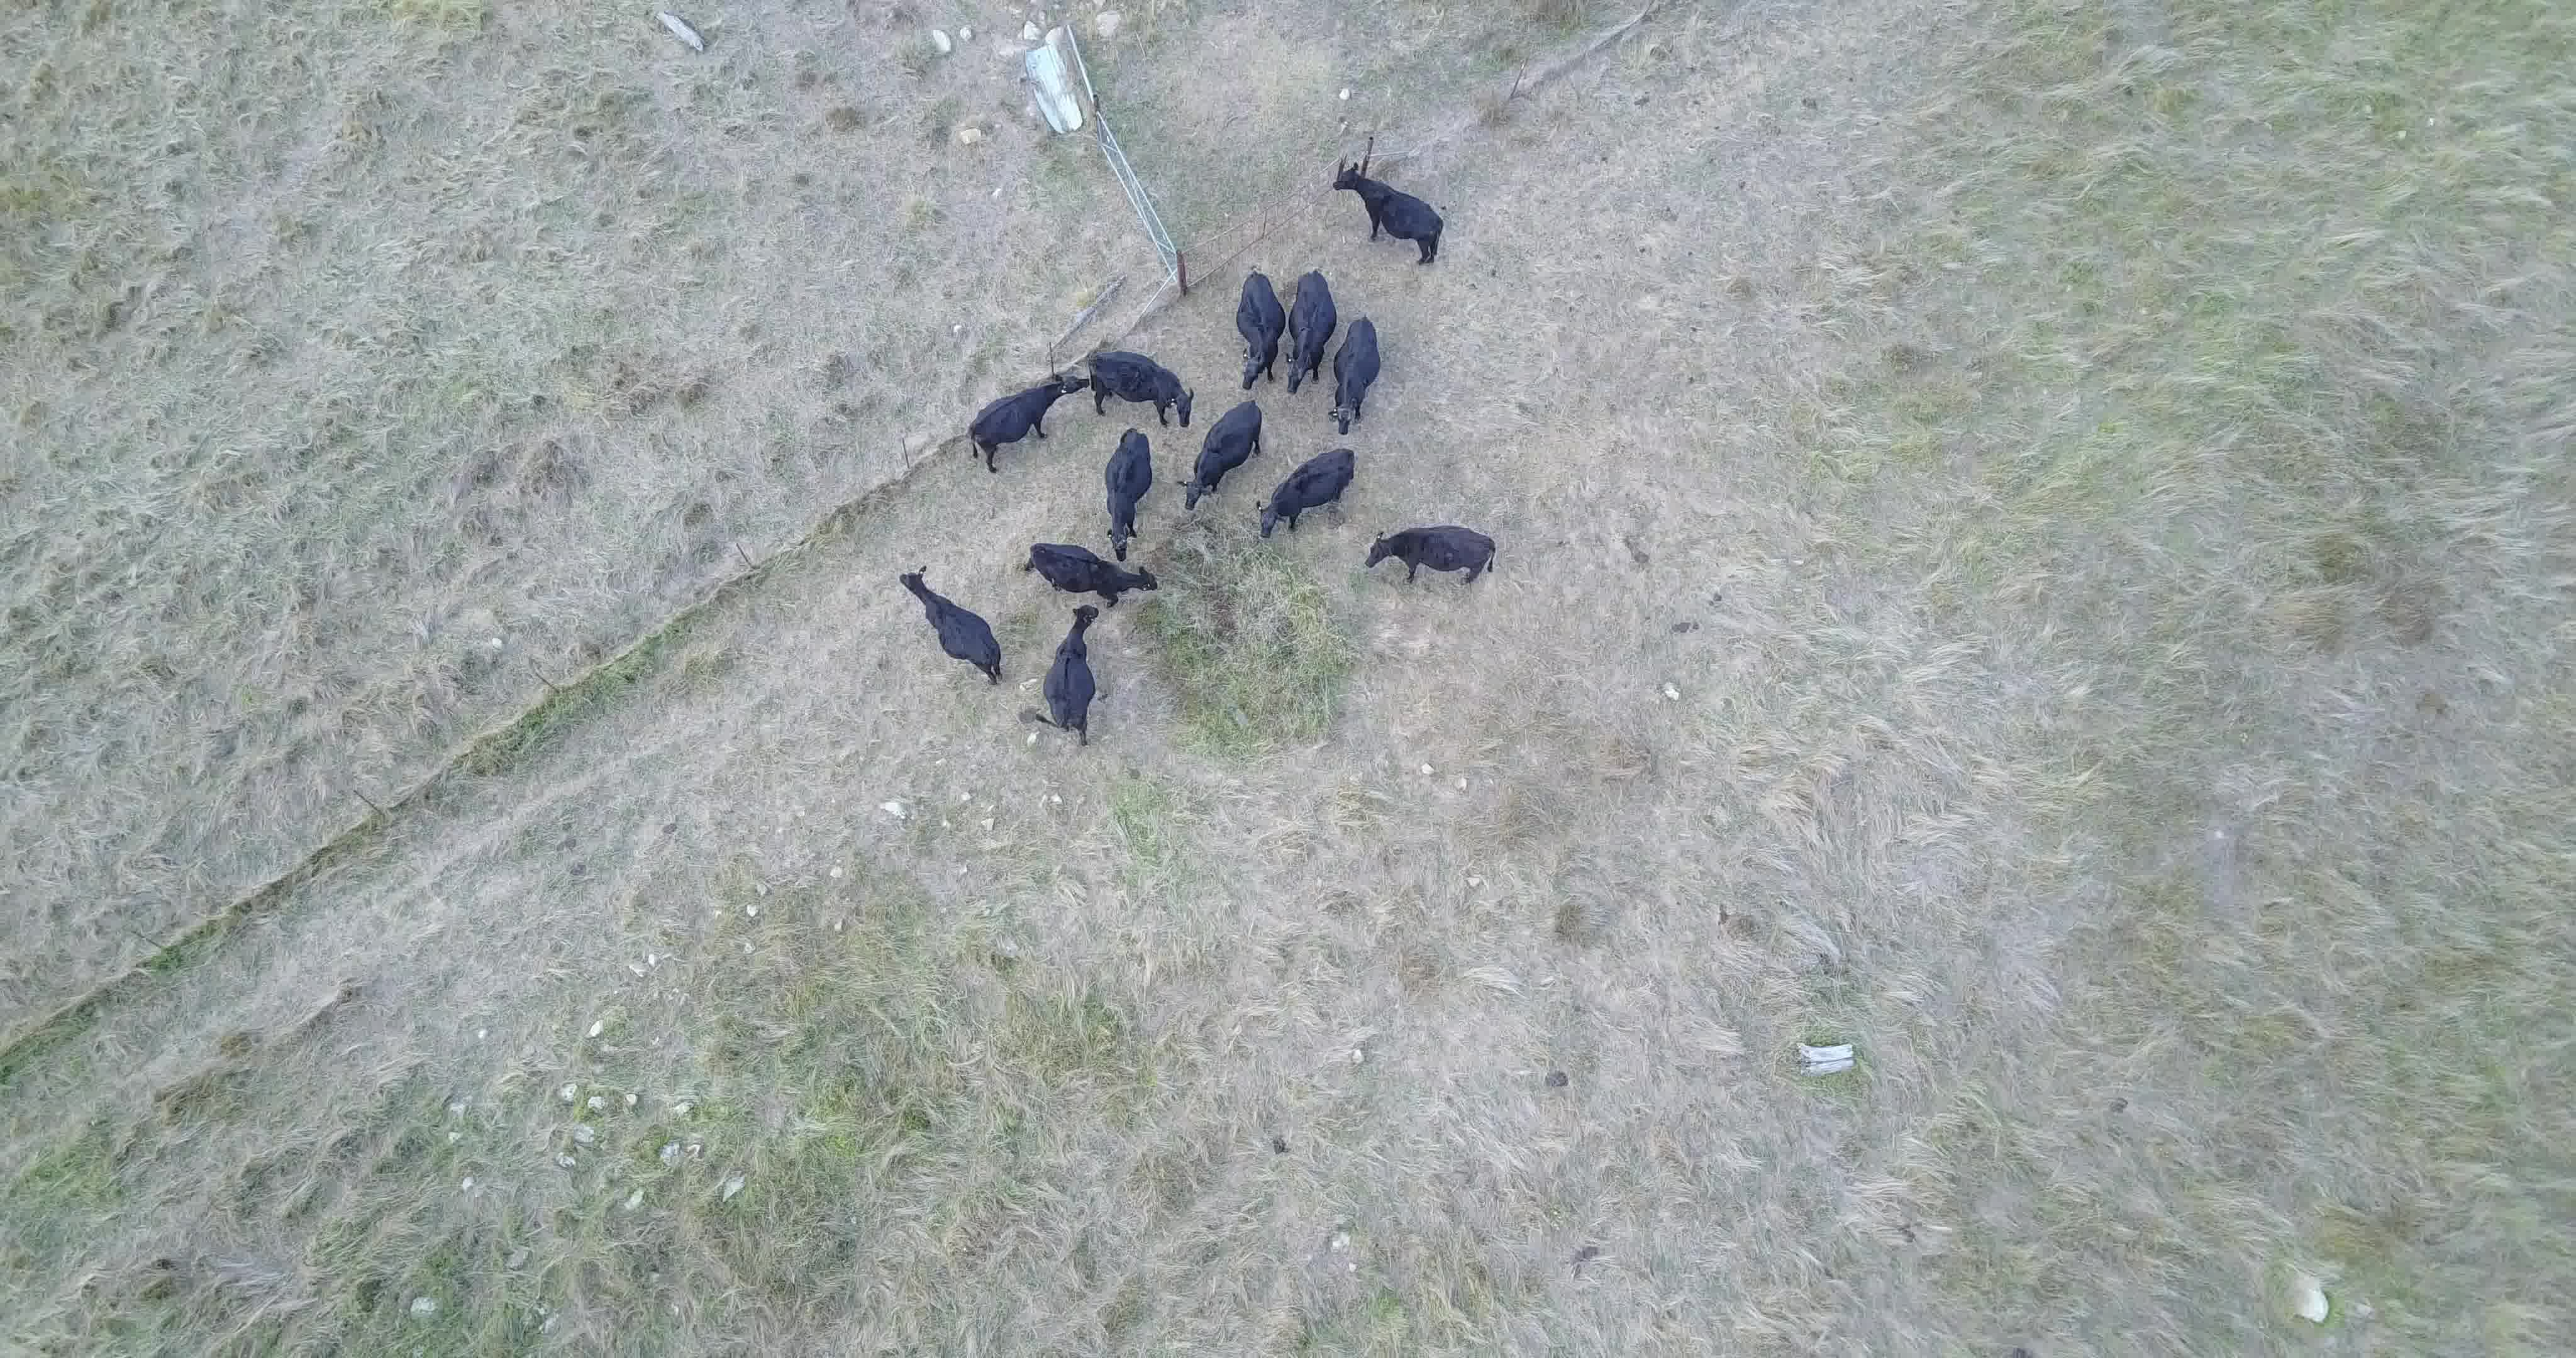cattle: (896, 564, 1005, 693), (963, 373, 1092, 474), (1329, 164, 1446, 266), (1365, 518, 1501, 595), (1032, 601, 1102, 748), (1021, 542, 1160, 612), (1177, 399, 1262, 509), (1259, 446, 1358, 537), (1087, 351, 1198, 428), (1102, 426, 1155, 562), (1228, 271, 1285, 388), (1285, 269, 1337, 390), (1329, 314, 1382, 431)
